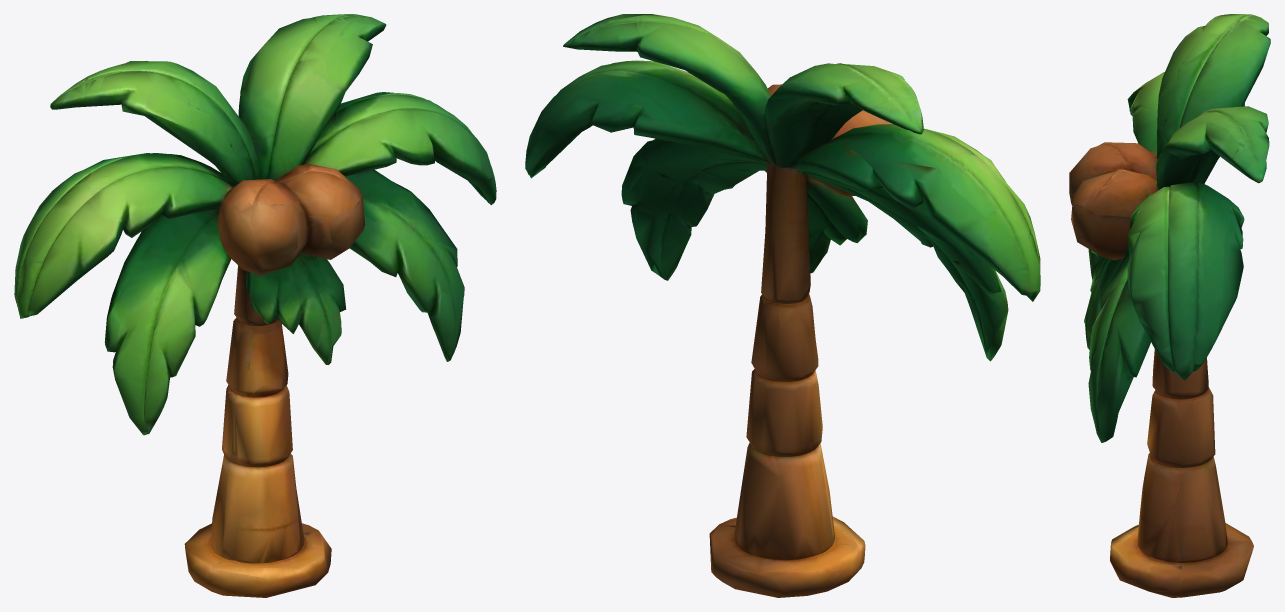
The model's file is palm_pbr.glb.
3 views of the same model, side by side, from view 1: azimuth 30°, elevation 25°; view 2: azimuth 150°, elevation 25°; view 3: azimuth 270°, elevation 25° (orthographic). The views are drawn at different scales.
Parts seen in each view (by area): view 1: model.011; view 2: model.011; view 3: model.011.
Boxes of the visible parts, left/top/right/bottom form: model.011: left=14, top=14, right=496, bottom=597; model.011: left=525, top=14, right=1040, bottom=597; model.011: left=1069, top=14, right=1270, bottom=597.
Size of the model in its own units: 1.77 by 1.83 by 0.6625.
1 material, 1 textured.
